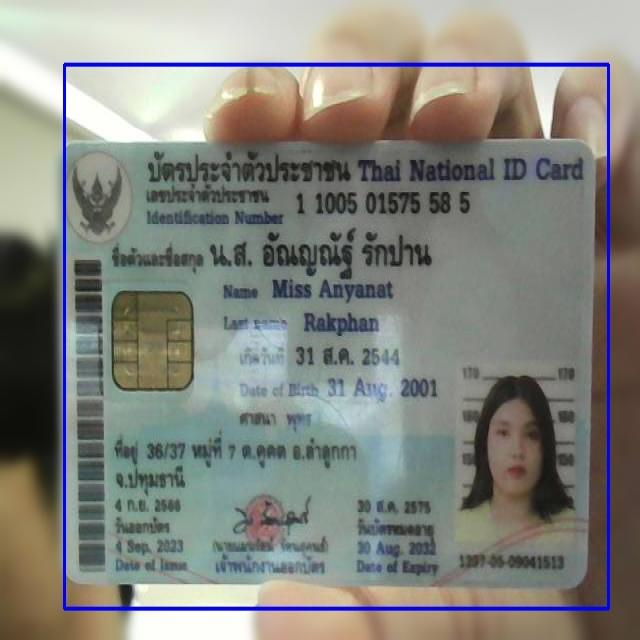Address_th: (109, 429, 359, 498)
Date_of_Birth: (324, 372, 441, 407)
Date_of_Expiry: (354, 536, 439, 558)
Date_of_Issue: (111, 536, 187, 558)
First_Name: (270, 276, 396, 306)
ID_Number: (294, 186, 476, 222)
Image: (455, 358, 572, 551)
Last_Name: (297, 307, 381, 339)
Thai_Name: (207, 225, 437, 282)
